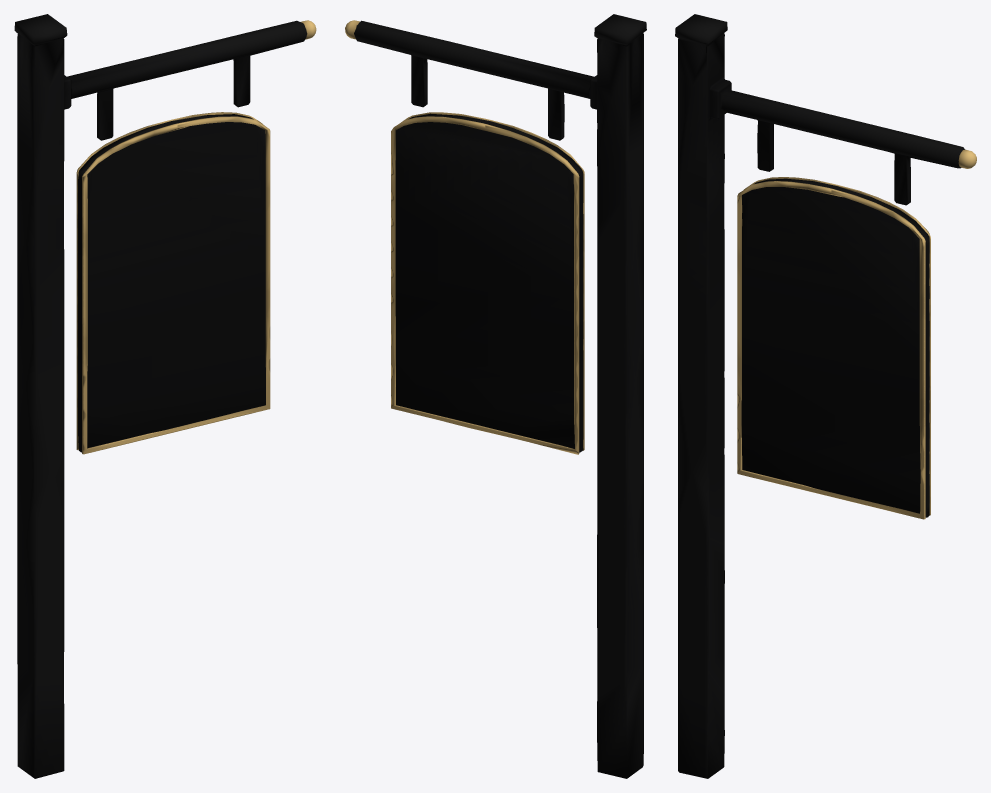
The model's file is tee_sign.glb.
3 views of the same model, side by side, from view 1: azimuth 30°, elevation 25°; view 2: azimuth 150°, elevation 25°; view 3: azimuth 330°, elevation 25° (orthographic).
Parts seen in each view (by area): view 1: tee_sign; view 2: tee_sign; view 3: tee_sign.
Boxes of the visible parts, left/top/right/bottom form: tee_sign: left=14, top=14, right=316, bottom=778; tee_sign: left=345, top=14, right=646, bottom=778; tee_sign: left=675, top=14, right=976, bottom=778.
Size of the model in its own units: 0.7127 by 1.74 by 0.082.
